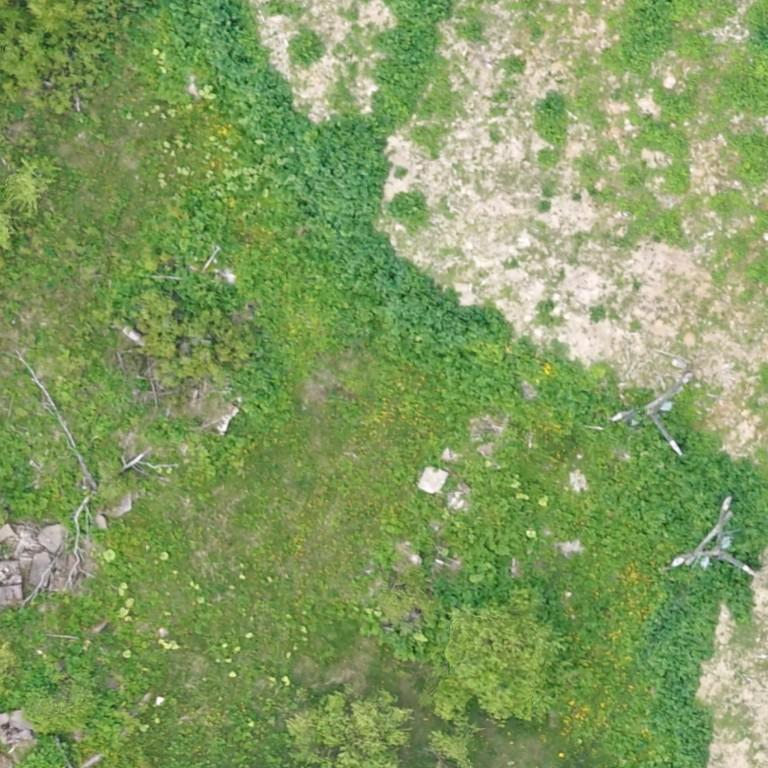hogweed: (165, 0, 515, 397), (638, 558, 751, 767), (613, 429, 767, 563), (717, 463, 767, 557), (624, 0, 673, 62), (533, 93, 564, 143)
